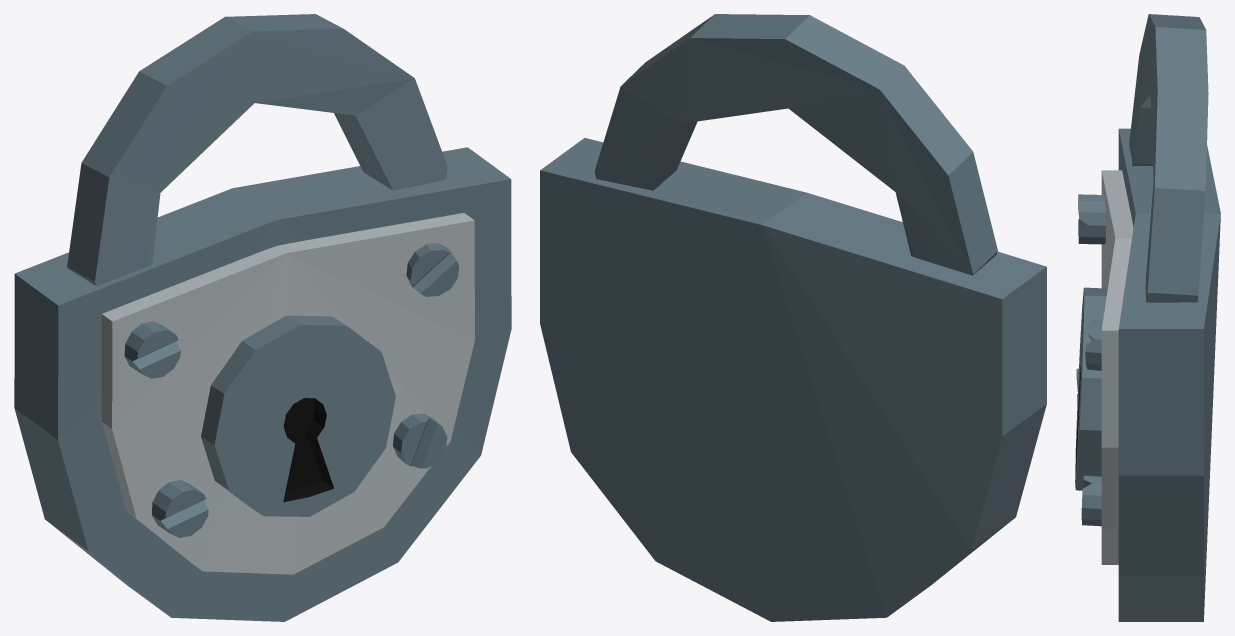
File: lock_original.glb
The picture shows the model from 3 angles, left to right: view 1: azimuth 30°, elevation 25°; view 2: azimuth 150°, elevation 25°; view 3: azimuth 270°, elevation 25°; orthographic projection. The views are drawn at different scales.
Visible parts, largest first — view 1: node_MeshObject379783616-PolyPaper15; view 2: node_MeshObject379783616-PolyPaper15; view 3: node_MeshObject379783616-PolyPaper15.
Boxes of the visible parts, x1,y1,x2,y2 form: node_MeshObject379783616-PolyPaper15: (14,14,511,621); node_MeshObject379783616-PolyPaper15: (540,14,1046,621); node_MeshObject379783616-PolyPaper15: (1075,14,1220,621).
Bounding box in the file's own units: 0.3 × 0.3667 × 0.0856.
